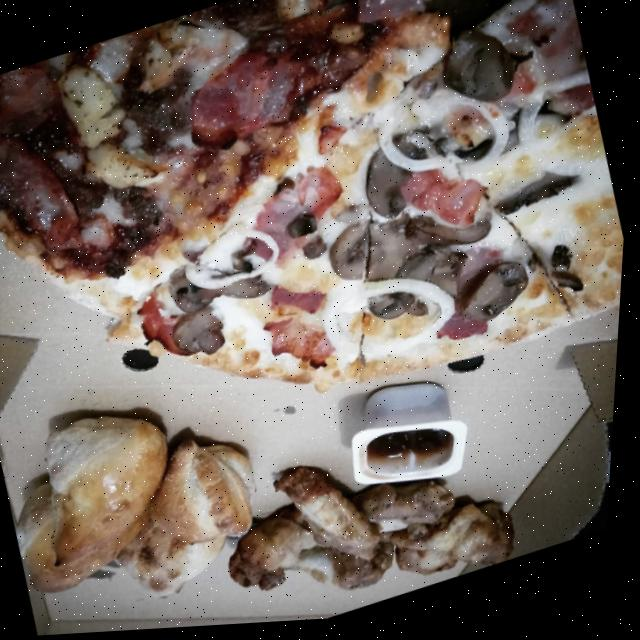mushrooms: (422, 9, 551, 131), (319, 202, 444, 311), (348, 123, 459, 239), (356, 245, 483, 340), (452, 101, 590, 174), (168, 252, 281, 333), (453, 255, 552, 343), (406, 189, 509, 273), (487, 162, 598, 233), (165, 298, 240, 370), (279, 208, 338, 273), (549, 241, 599, 312), (224, 237, 274, 289)
pizza: (0, 0, 640, 505)
